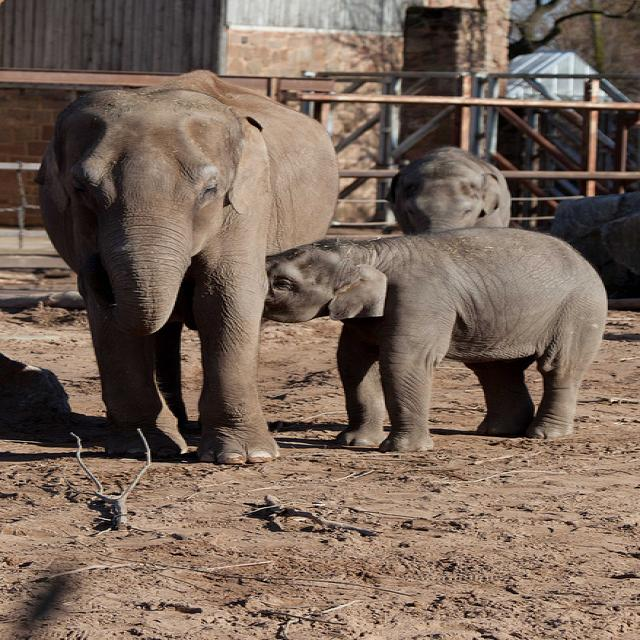Elephant: (34, 68, 341, 464), (261, 226, 608, 452), (383, 145, 512, 235)
